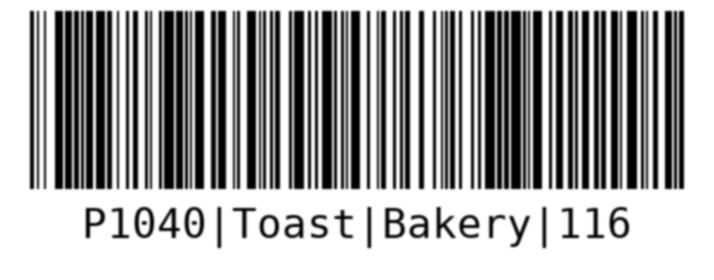milk: (27, 7, 688, 252)
